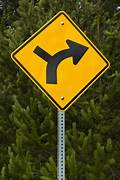right: (9, 11, 110, 110)
